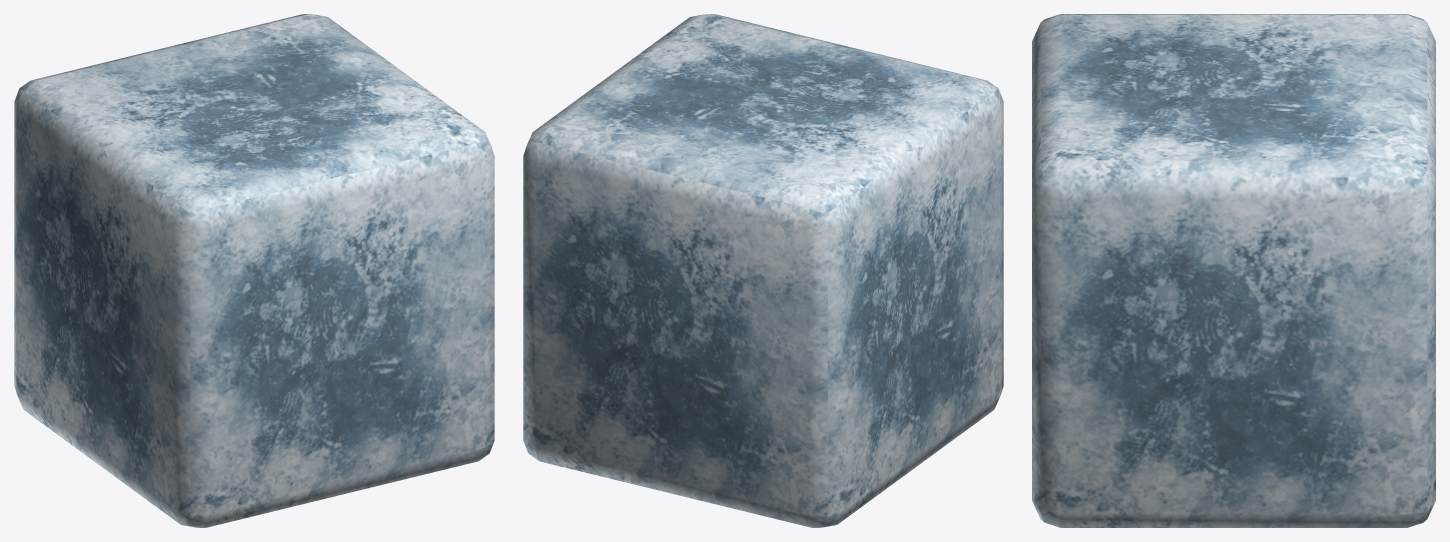
Rendered from iceCube.fbx.
The picture shows the model from 3 angles, left to right: view 1: azimuth 30°, elevation 25°; view 2: azimuth 150°, elevation 25°; view 3: azimuth 270°, elevation 25°; orthographic projection. The views are drawn at different scales.
Parts seen in each view (by area): view 1: pCube69; view 2: pCube69; view 3: pCube69.
Part boxes in pixels (left/top/right/bottom): pCube69: left=14, top=14, right=494, bottom=527; pCube69: left=523, top=14, right=1003, bottom=527; pCube69: left=1032, top=14, right=1435, bottom=527.
Bounding box in the file's own units: 1.11 × 1.11 × 1.11.
